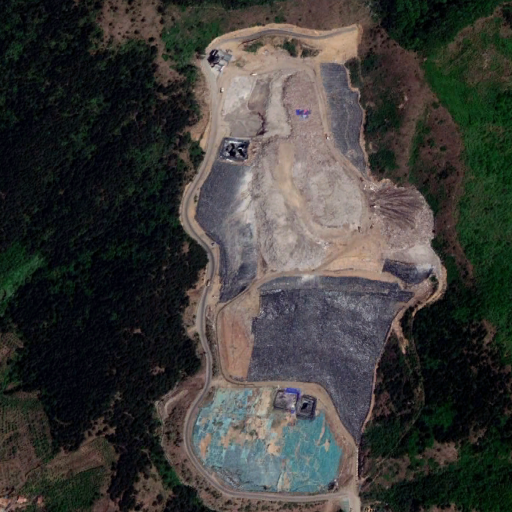lf: (188, 25, 435, 495)
